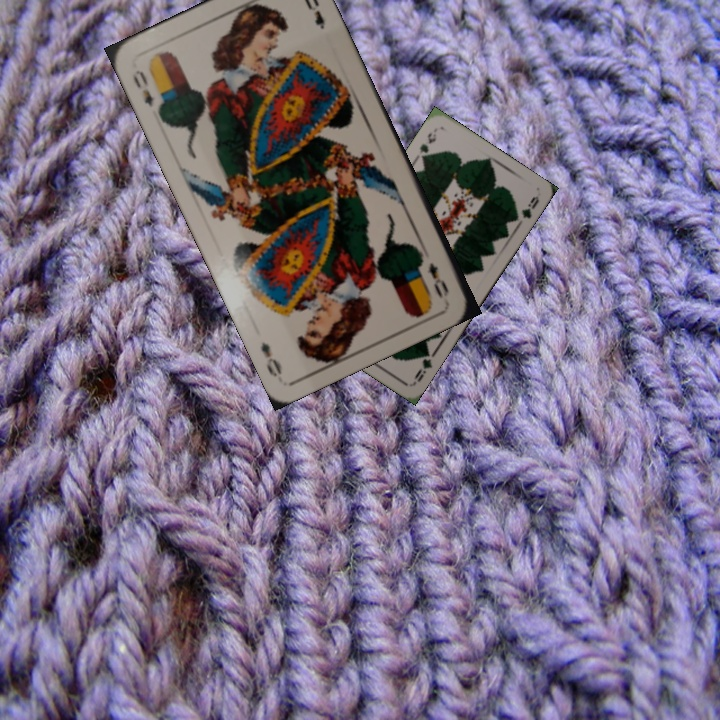EO: (128, 65, 167, 116), (424, 258, 452, 301)
G9: (410, 346, 438, 386), (412, 125, 439, 164)
